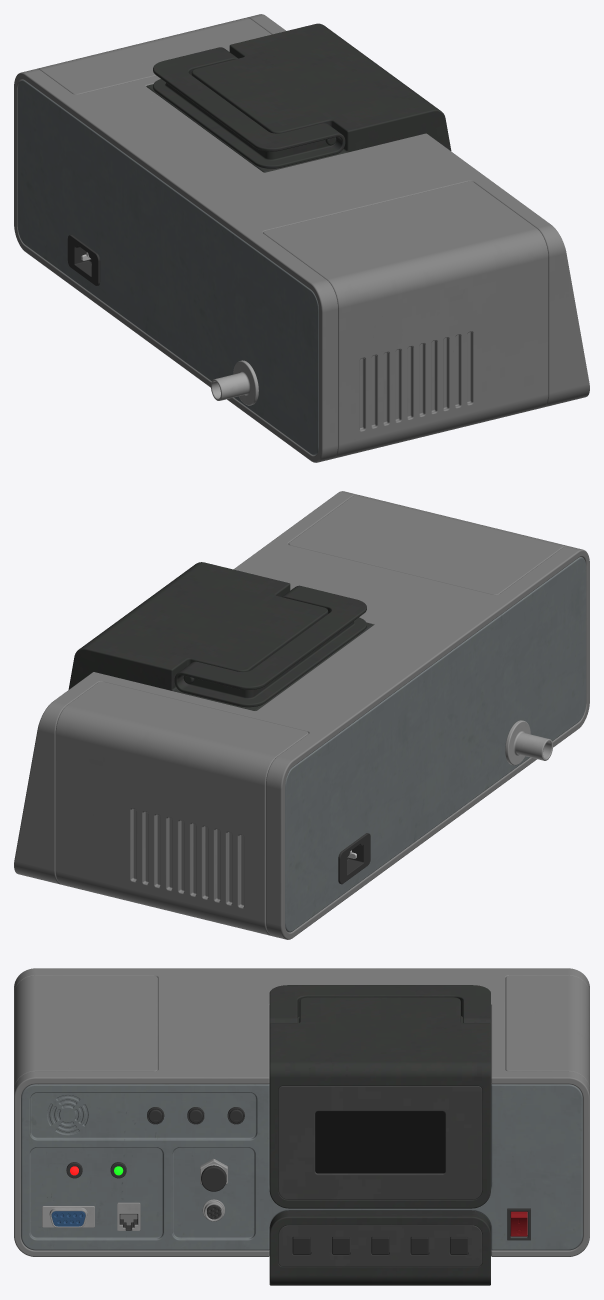
The model's file is testingTool_emission_tester_a01.glb.
The picture shows the model from 3 angles, top to bottom: view 1: azimuth 30°, elevation 25°; view 2: azimuth 150°, elevation 25°; view 3: azimuth 270°, elevation 25°; orthographic projection. The views are drawn at different scales.
Visible parts, largest first — view 1: body_01_mesh_00, handle_01_mesh_00; view 2: body_01_mesh_00, handle_01_mesh_00; view 3: body_01_mesh_00, handle_01_mesh_00, connertor_01_mesh_00, switch_01_mesh_00.
Part boxes in pixels (<box>): body_01_mesh_00: <box>14,14,589,462</box>; handle_01_mesh_00: <box>153,47,345,168</box>; body_01_mesh_00: <box>14,491,589,939</box>; handle_01_mesh_00: <box>174,585,366,707</box>; body_01_mesh_00: <box>14,968,589,1285</box>; handle_01_mesh_00: <box>269,985,490,1023</box>; connertor_01_mesh_00: <box>201,1165,226,1191</box>; switch_01_mesh_00: <box>510,1211,527,1236</box>.
Bounding box in the file's own units: 0.2474 × 0.1613 × 0.406.
13 materials, 7 textured.
